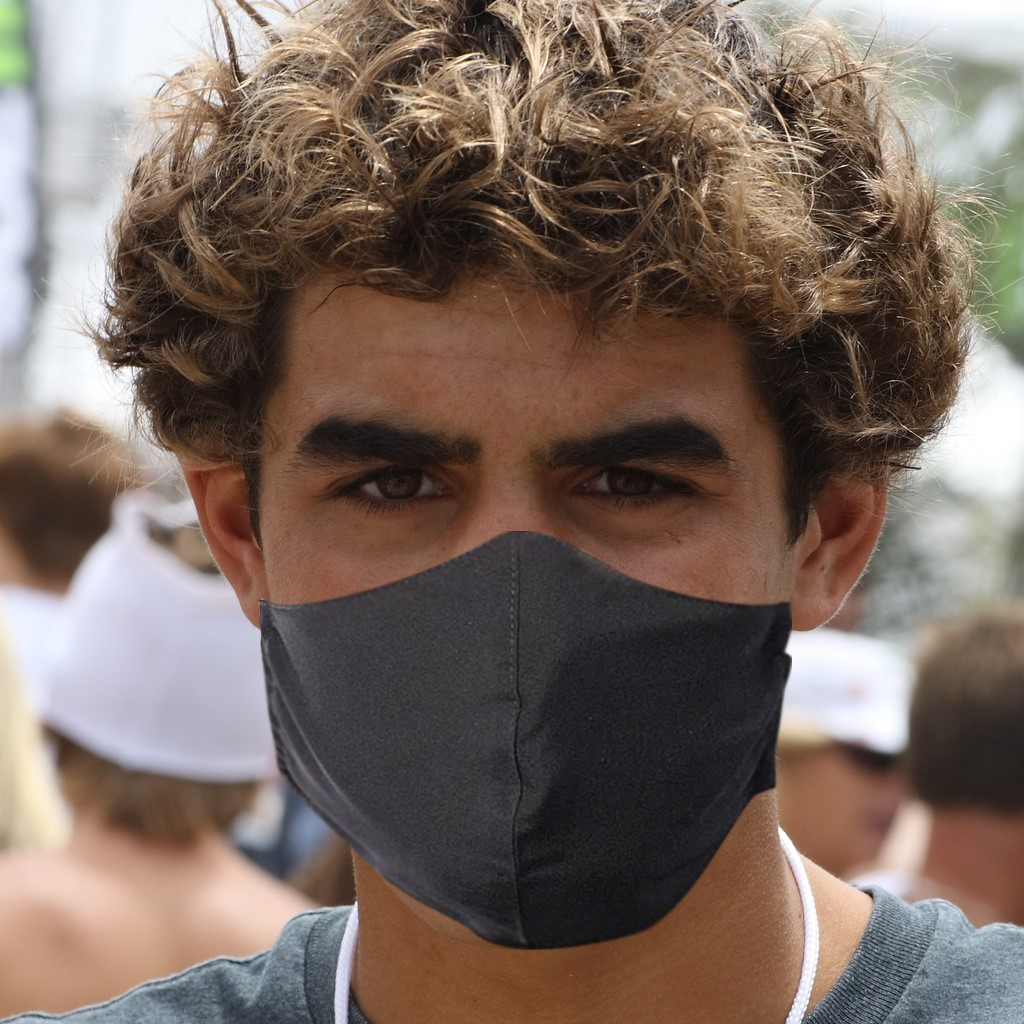con_mascara: (238, 231, 795, 958)
